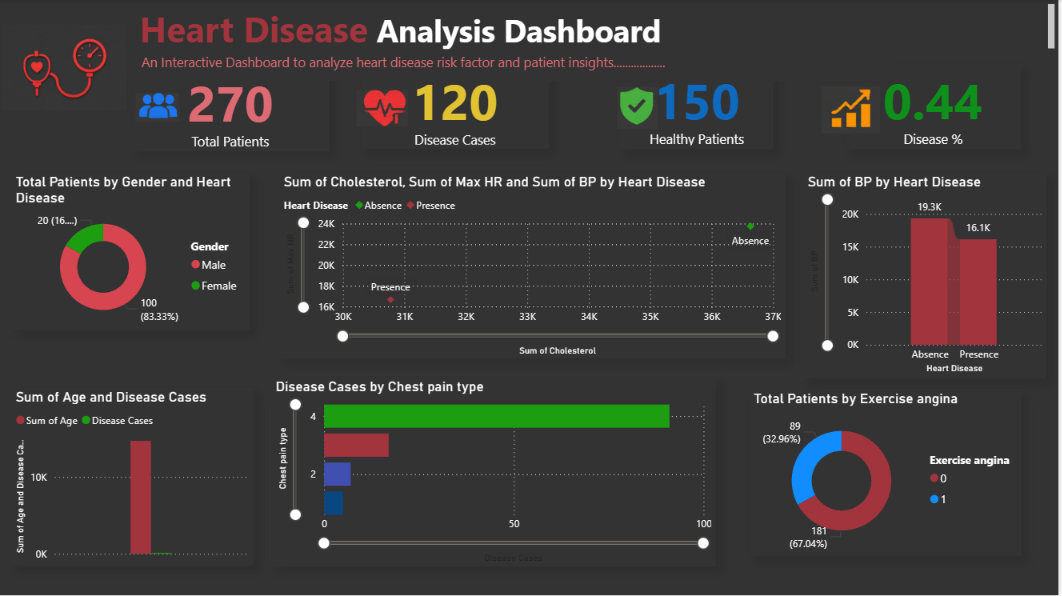

Layout of this report page (visuals, bound fields, positions):
{"tool":"powerbi","page":{"name":"Page 1","canvas":[1280,720],"ordinal":0},"visuals":[{"type":"textbox","box":[0,0,1280,65],"z":0},{"type":"card","fields":{"Values":["Heart_Disease_Prediction.Total Patients"]},"box":[161.4,81.4,238.6,101.4],"z":1000},{"type":"card","fields":{"Values":["Heart_Disease_Prediction.Disease Cases"]},"box":[438.6,81.4,225.7,98.6],"z":2000},{"type":"card","fields":{"Values":["Heart_Disease_Prediction.Healthy Patients"]},"box":[751.4,78.6,184.3,101.4],"z":3000},{"type":"card","fields":{"Values":["Heart_Disease_Prediction.Disease %"]},"box":[1023.1,78.4,211.1,101.3],"z":4000},{"type":"donutChart","fields":{"Category":["Heart_Disease_Prediction.Gender"],"Y":["Heart_Disease_Prediction.Total Patients"],"Series":["Heart_Disease_Prediction.Heart Disease"]},"box":[17.1,208.6,287.1,188.6],"z":5000},{"type":"clusteredBarChart","fields":{"Category":["Heart_Disease_Prediction.Chest pain type"],"Y":["Heart_Disease_Prediction.Disease Cases"]},"box":[330,455.7,535.7,227.1],"z":6000},{"type":"scatterChart","fields":{"X":["Sum(Heart_Disease_Prediction.Cholesterol)"],"Y":["Sum(Heart_Disease_Prediction.Max HR)"],"Series":["Heart_Disease_Prediction.Heart Disease"],"Size":["Sum(Heart_Disease_Prediction.BP)"]},"box":[340,208.6,610,224.3],"z":7000},{"type":"clusteredColumnChart","fields":{"Y":["Sum(Heart_Disease_Prediction.Age)","Heart_Disease_Prediction.Disease Cases"]},"box":[17.1,468.6,291.4,214.3],"z":8000},{"type":"donutChart","fields":{"Category":["Heart_Disease_Prediction.Exercise angina"],"Y":["Heart_Disease_Prediction.Total Patients"]},"box":[907.1,470,327.1,200],"z":9000},{"type":"columnChart","fields":{"Category":["Heart_Disease_Prediction.Heart Disease"],"Y":["Sum(Heart_Disease_Prediction.BP)"]},"box":[972.9,208.6,292.9,247.1],"z":10000},{"type":"textbox","box":[81.4,58.6,1002.9,38.6],"z":11000},{"type":"image","box":[0,0,160.5,162.9],"z":12000},{"type":"image","box":[161.7,97.7,62.7,62.7],"z":13000},{"type":"image","box":[428.3,97.7,72.4,65.1],"z":14000},{"type":"image","box":[742,100.1,60.3,60.3],"z":15000},{"type":"image","box":[989.3,92.9,80.8,79.6],"z":16000}]}

Visuals, with their boxes in screenshot pixels (x1, y1, x2, y2), scaled from the page's 1280x720 canvas onto the 1062x596 screenshot:
textbox: 0, 0, 1061, 54
card - Heart_Disease_Prediction.Total Patients: 134, 67, 332, 151
card - Heart_Disease_Prediction.Disease Cases: 364, 67, 551, 149
card - Heart_Disease_Prediction.Healthy Patients: 623, 65, 776, 149
card - Heart_Disease_Prediction.Disease %: 849, 65, 1024, 149
donutChart - Heart_Disease_Prediction.Gender x Heart_Disease_Prediction.Total Patients: 14, 173, 252, 329
clusteredBarChart - Heart_Disease_Prediction.Chest pain type x Heart_Disease_Prediction.Disease Cases: 274, 377, 718, 565
scatterChart - Sum(Heart_Disease_Prediction.Cholesterol) x Sum(Heart_Disease_Prediction.Max HR): 282, 173, 788, 358
clusteredColumnChart - Sum(Heart_Disease_Prediction.Age) x Heart_Disease_Prediction.Disease Cases: 14, 388, 256, 565
donutChart - Heart_Disease_Prediction.Exercise angina x Heart_Disease_Prediction.Total Patients: 753, 389, 1024, 555
columnChart - Heart_Disease_Prediction.Heart Disease x Sum(Heart_Disease_Prediction.BP): 807, 173, 1050, 377
textbox: 68, 49, 900, 80
image: 0, 0, 133, 135
image: 134, 81, 186, 133
image: 355, 81, 415, 135
image: 616, 83, 666, 133
image: 821, 77, 888, 143
